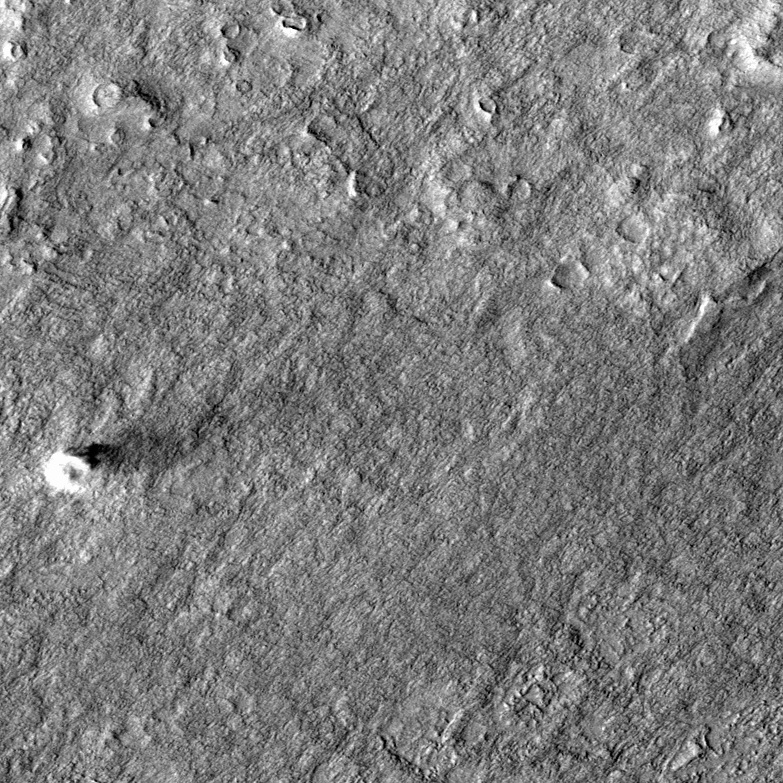dust_devil: (41, 401, 234, 496)
